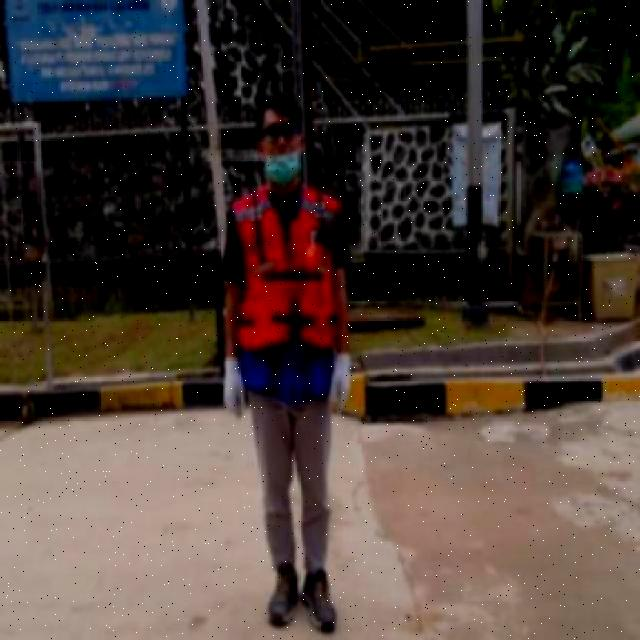Boots: (298, 568, 340, 636), (263, 562, 300, 632)
Gloves: (221, 354, 247, 422), (326, 352, 352, 416)
Mask: (238, 243, 338, 352)
